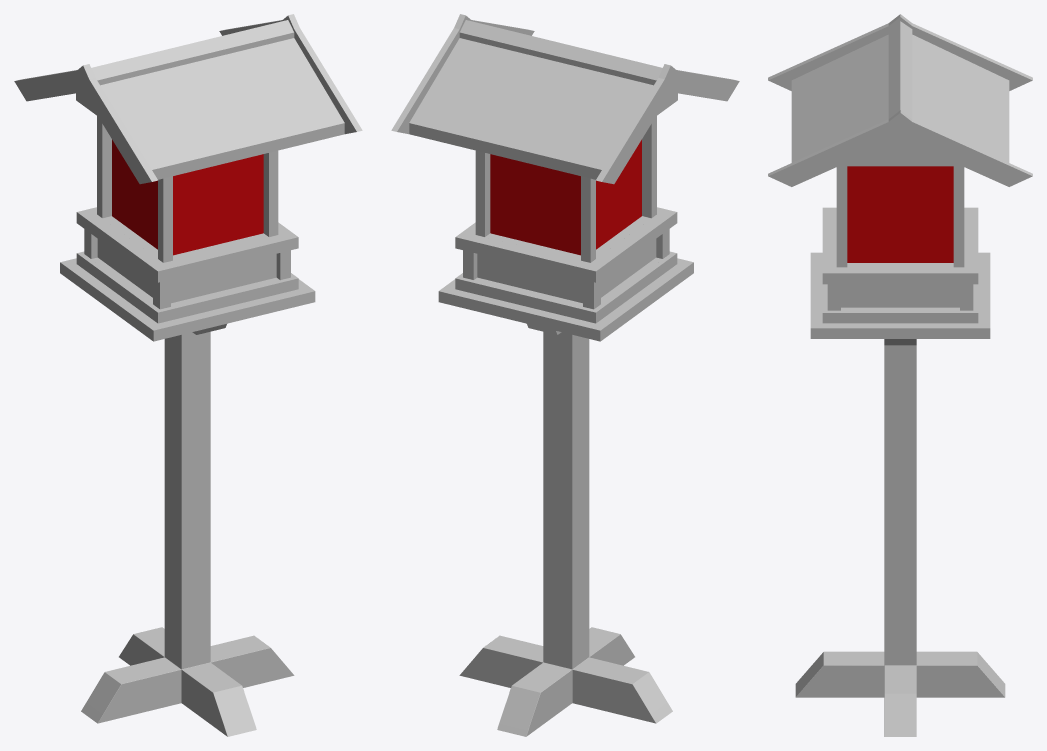
The model's file is WoodLantern.obj.
3 renders of one model, left to right at view 1: azimuth 30°, elevation 25°; view 2: azimuth 150°, elevation 25°; view 3: azimuth 270°, elevation 25°, orthographic. The views are drawn at different scales.
Visible parts, largest first — view 1: Lantern; view 2: Lantern; view 3: Lantern.
Part boxes in pixels (x1=…): Lantern: x1=14, y1=14, x2=362, y2=736; Lantern: x1=391, y1=14, x2=739, y2=736; Lantern: x1=768, y1=14, x2=1032, y2=736.
Bounding box in the file's own units: 0.4374 × 1.3 × 0.4955.
